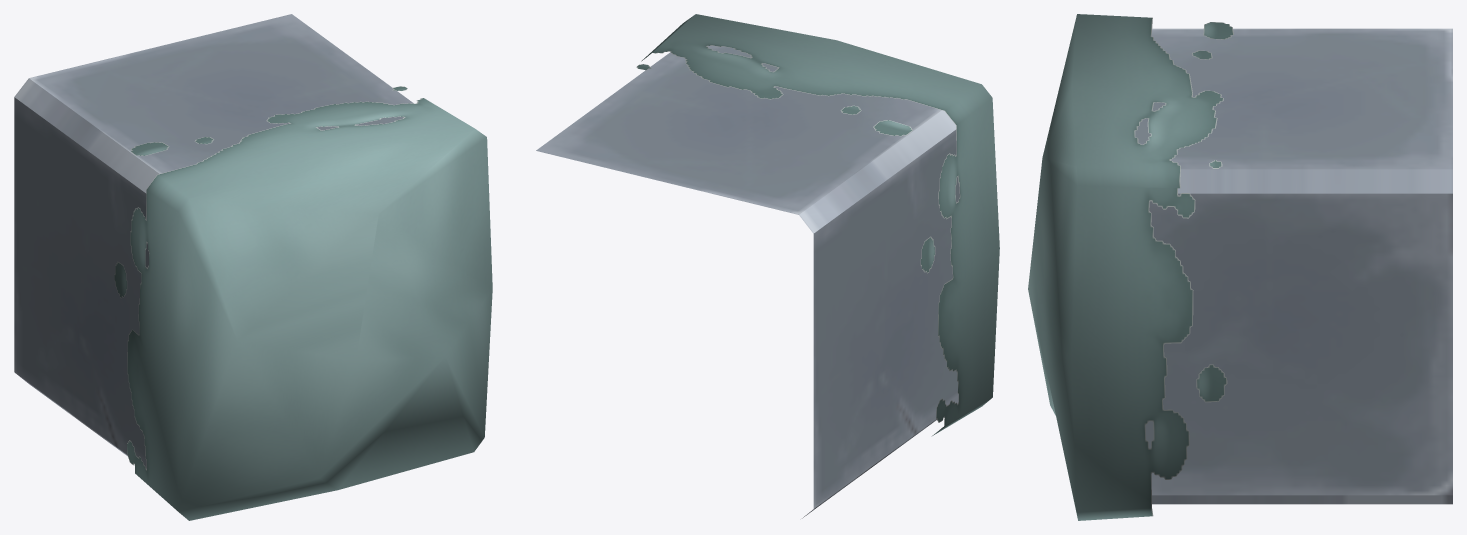
The picture shows the model from 3 angles, left to right: view 1: azimuth 30°, elevation 25°; view 2: azimuth 150°, elevation 25°; view 3: azimuth 270°, elevation 25°; orthographic projection. The views are drawn at different scales.
Visible parts, largest first — view 1: iceblock.model-Mesh[0], iceblock.model-Mesh[1]; view 2: iceblock.model-Mesh[1], iceblock.model-Mesh[0]; view 3: iceblock.model-Mesh[1], iceblock.model-Mesh[0].
Part boxes in pixels (x1,y1,x2,y2): iceblock.model-Mesh[0]: (114,86,492,520); iceblock.model-Mesh[1]: (14,14,413,469); iceblock.model-Mesh[1]: (536,45,959,518); iceblock.model-Mesh[0]: (636,14,999,436); iceblock.model-Mesh[1]: (1135,28,1452,504); iceblock.model-Mesh[0]: (1028,14,1233,520).
Bounding box in the file's own units: 1.08 × 1.09 × 1.15.
Materials: 2 (2 with a texture image).
